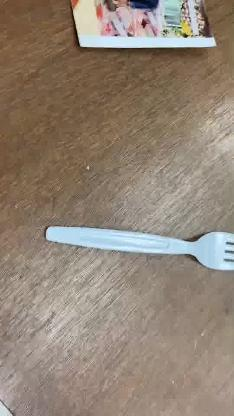Others: (43, 223, 233, 269)
